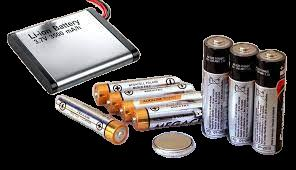Battery: (202, 35, 287, 156)
